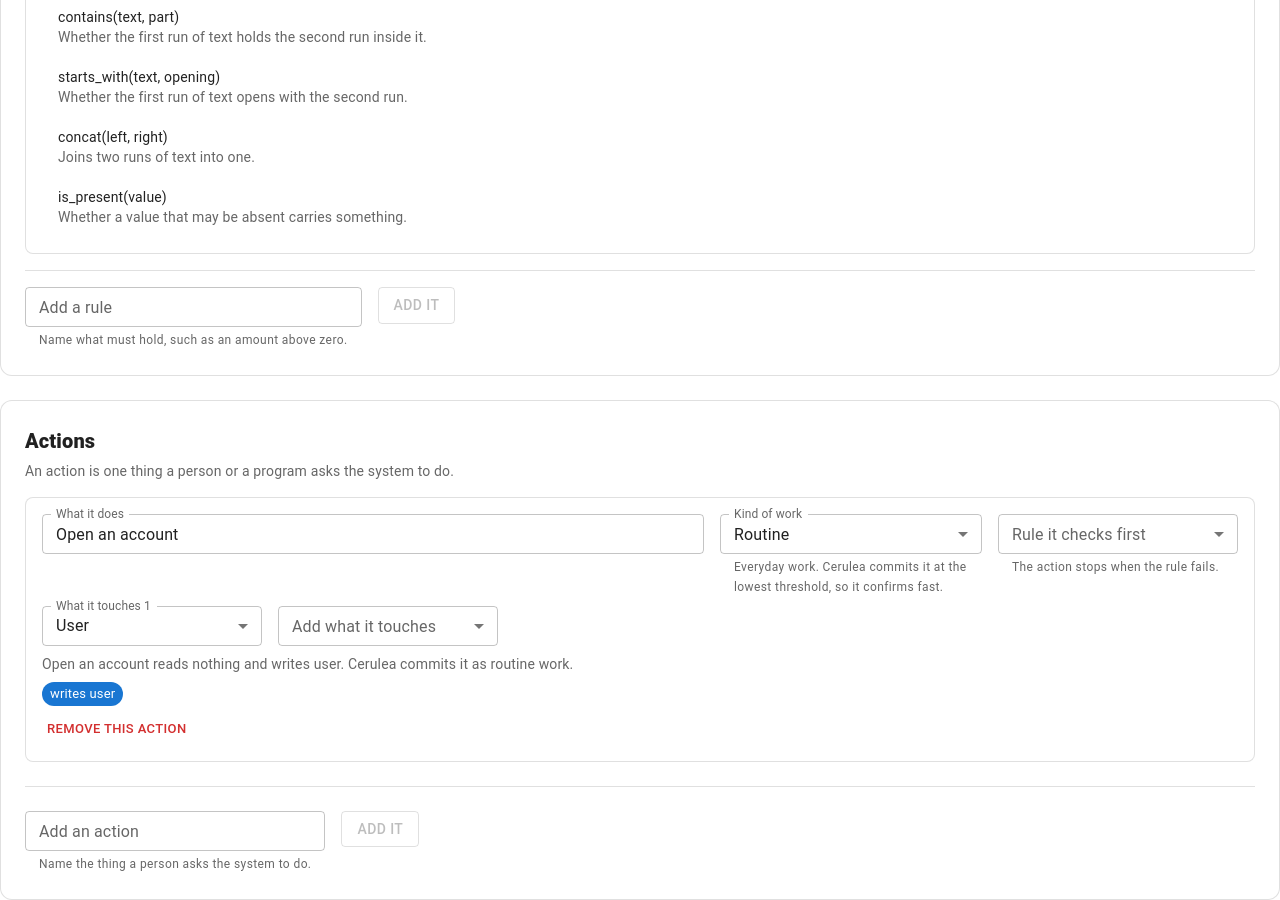
it: the logic editor over a held action › renames the action and redraws the sentence under it
The image size is (1280, 900).
(page scrolled)
Replace the text in the field labelled "What it does" with "Register a person" at (373,534), box [42,514,704,554]
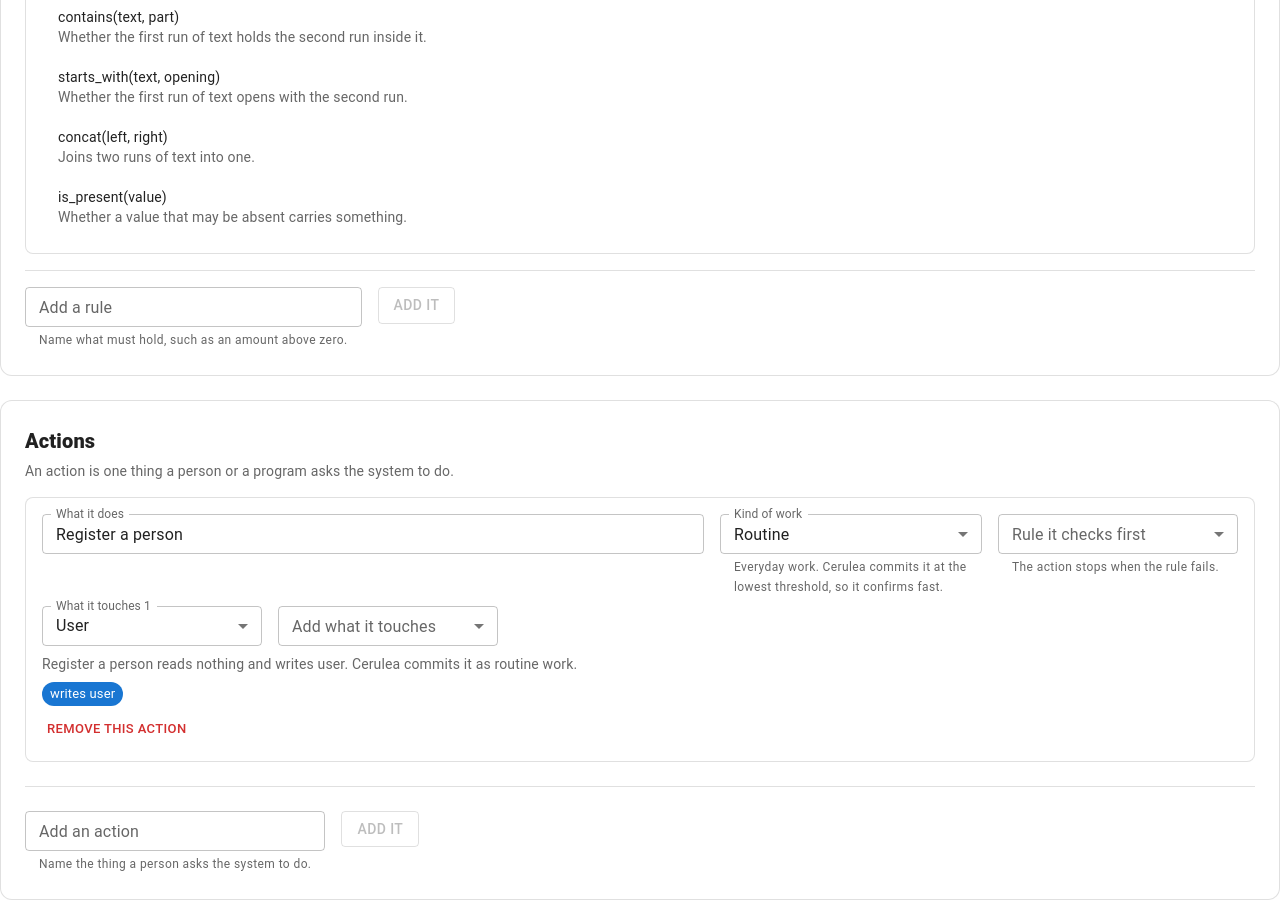
expect the text "Register a person reads nothing and writes user. Cerulea commits it as routine work." is shown: met, box [42,656,577,672]
